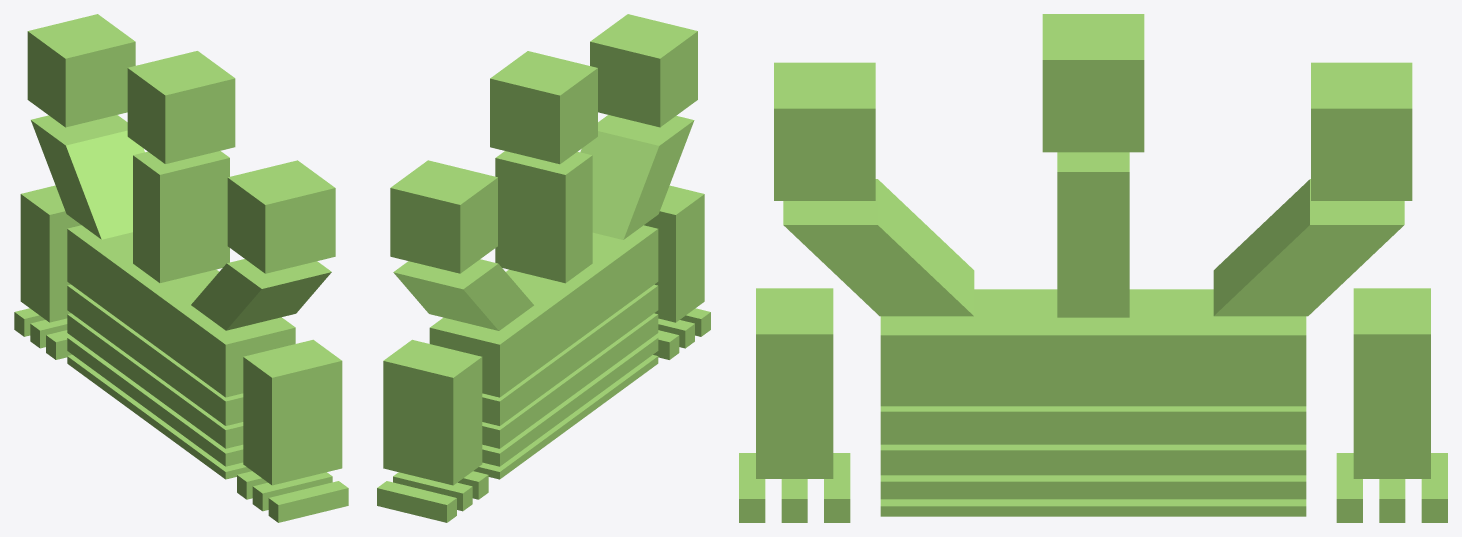
Rendered from hydra.gltf.
3 renders of one model, left to right at view 1: azimuth 30°, elevation 25°; view 2: azimuth 150°, elevation 25°; view 3: azimuth 270°, elevation 25°, orthographic. The views are drawn at different scales.
Parts seen in each view (by area): view 1: Hydra; view 2: Hydra; view 3: Hydra.
Boxes of the visible parts, <box> form: Hydra: <box>14,14,348,522</box>; Hydra: <box>377,14,710,522</box>; Hydra: <box>739,14,1447,522</box>.
Size of the model in its own units: 1.26 by 5.91 by 8.21.
